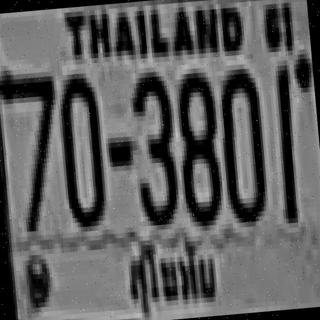N00: (214, 63, 267, 224), (55, 68, 106, 228)
N01: (270, 60, 300, 219), (269, 65, 299, 219)
N03: (128, 66, 178, 226)
N07: (10, 69, 64, 230)
N08: (172, 67, 222, 222)
P65: (122, 231, 222, 320)
